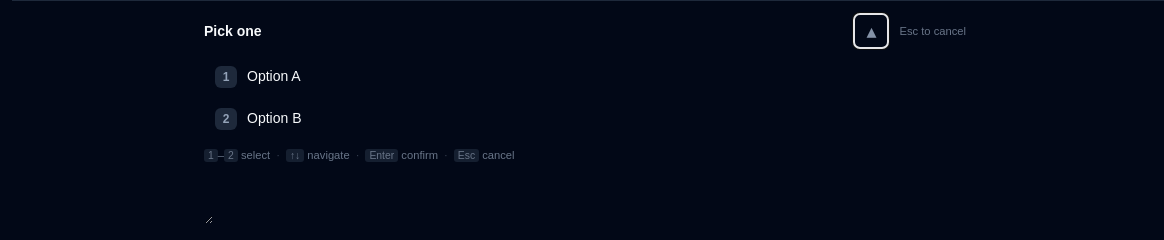
InlineSelect keyboard focus › keeps an explicit focus change made while the question opens
Click the button named "Collapse". click: (872, 31)
box: [854,13,890,49]
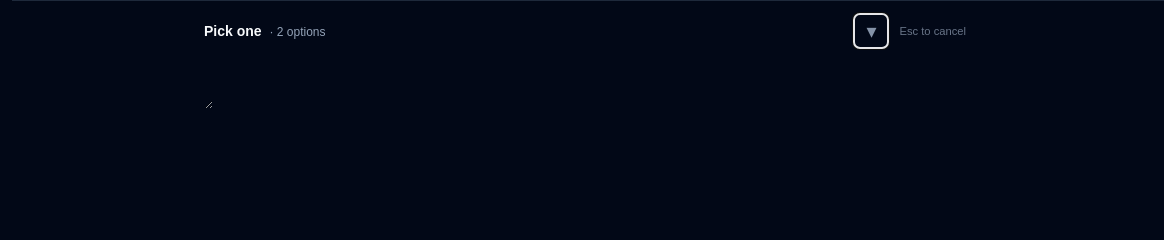
Check: the button named "Collapse" is collapsed, box [854,13,890,49]
